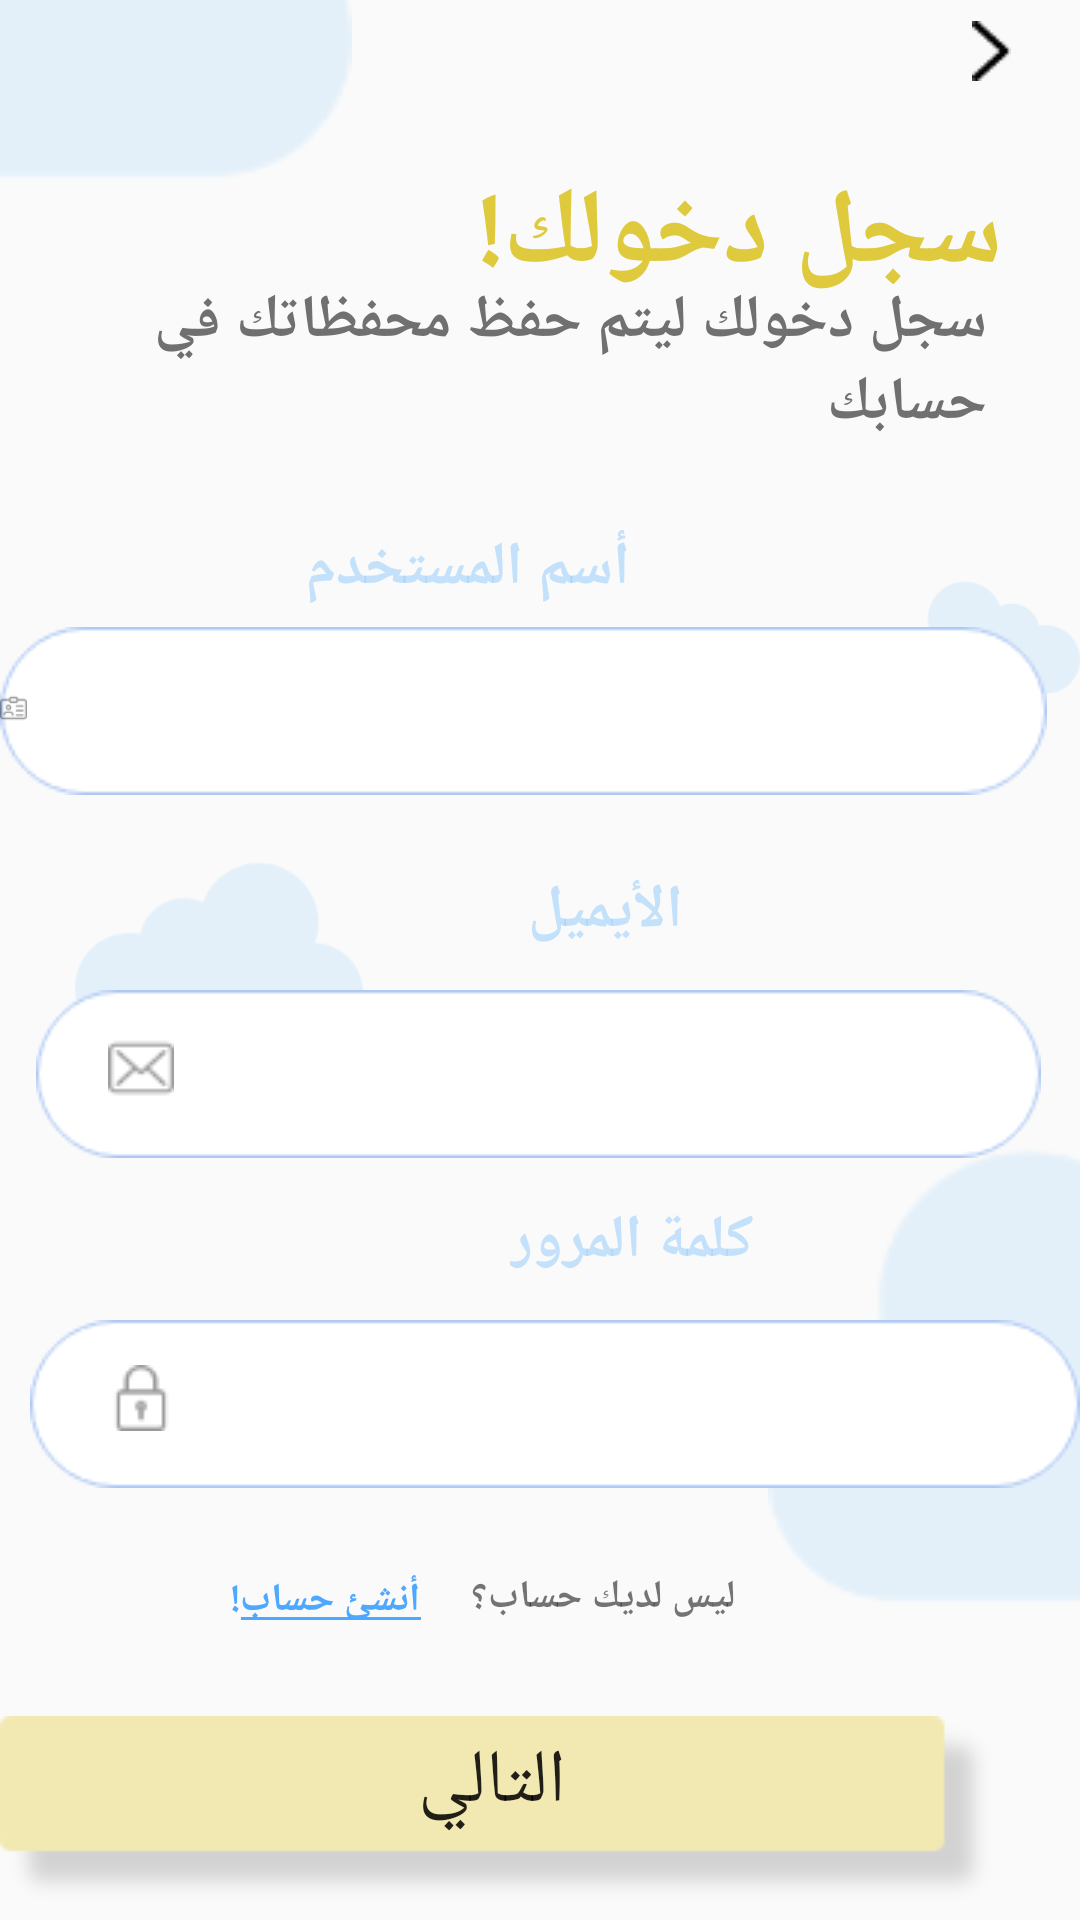

Locate icon controls on the screen. Image size 1080 × 1920, boxes as region(x1, y1, x2, y2).
password: region(116, 1365, 166, 1431)
